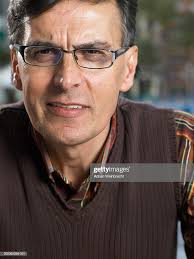Glasses: (10, 36, 125, 75)
